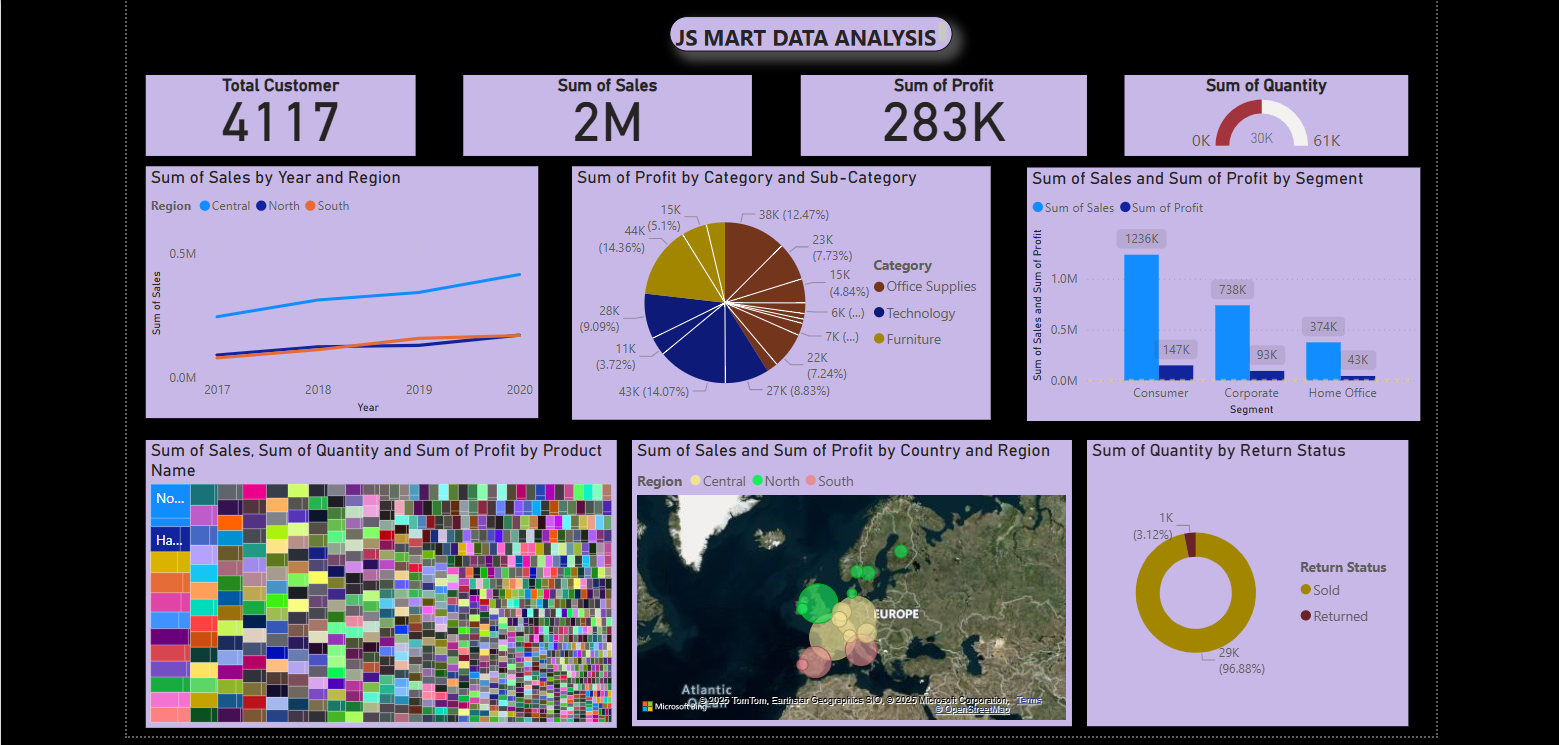

Layout of this report page (visuals, bound fields, positions):
{"tool":"powerbi","page":{"name":"Page 1","canvas":[1280,720],"ordinal":0},"visuals":[{"type":"lineChart","fields":{"Category":["List of Orders.Order Date.Variation.Date Hierarchy.Year","List of Orders.Order Date.Variation.Date Hierarchy.Quarter","List of Orders.Order Date.Variation.Date Hierarchy.Month","List of Orders.Order Date.Variation.Date Hierarchy.Day"],"Y":["Sum(Order Breakdown.Sales)"],"Series":["List of Orders.Region"]},"box":[18.8,163,383.8,246.7],"z":0},{"type":"treemap","fields":{"Group":["Order Breakdown.Product Name"],"Values":["Sum(Order Breakdown.Sales)","Sum(Order Breakdown.Quantity)","Sum(Order Breakdown.Profit)"]},"box":[18.3,430.4,461,281.3],"z":1},{"type":"pieChart","fields":{"Category":["Order Breakdown.Category"],"Series":["Order Breakdown.Sub-Category"],"Y":["Sum(Order Breakdown.Profit)"]},"box":[435.3,162.6,409.6,248.2],"z":2},{"type":"map","fields":{"Series":["List of Orders.Region"],"Category":["List of Orders.Country"],"Size":["Sum(Order Breakdown.Sales)"]},"box":[494,430.4,430.4,280],"z":3},{"type":"clusteredColumnChart","fields":{"Category":["List of Orders.Segment"],"Y":["Sum(Order Breakdown.Sales)","Sum(Order Breakdown.Profit)"]},"box":[880.4,163.9,385.2,248.2],"z":4},{"type":"donutChart","fields":{"Category":["Order Breakdown.Return Status","Order Breakdown.Product Name"],"Y":["Sum(Order Breakdown.Quantity)"]},"box":[939.1,430.4,314.3,280],"z":5},{"type":"textbox","box":[530.9,15.9,277,34.6],"z":6},{"type":"card","title":"Total Customer","fields":{"Values":["CountNonNull(List of Orders.Customer Name)"]},"box":[18.8,73.6,264,79.4],"z":8},{"type":"card","title":"Sum of Sales","fields":{"Values":["Sum(Order Breakdown.Sales)"]},"box":[328.9,73.4,282.5,79.5],"z":9},{"type":"card","title":"Sum of Profit","fields":{"Values":["Sum(Order Breakdown.Profit)"]},"box":[659.1,73.4,280,79.5],"z":10},{"type":"gauge","title":"Sum of Quantity","fields":{"Y":["Sum(Order Breakdown.Quantity)"]},"box":[975.8,73.4,277.6,79.5],"z":11}]}

Visuals, with their boxes in screenshot pixels (x1, y1, x2, y2):
lineChart - List of Orders.Order Date.Variation.Date Hierarchy.Year x List of Orders.Order Date.Variation.Date Hierarchy.Quarter: {"left": 141, "top": 163, "right": 534, "bottom": 415}
treemap - Order Breakdown.Product Name x Sum(Order Breakdown.Sales): {"left": 141, "top": 436, "right": 612, "bottom": 724}
pieChart - Order Breakdown.Category x Order Breakdown.Sub-Category: {"left": 567, "top": 162, "right": 986, "bottom": 416}
map - List of Orders.Region x List of Orders.Country: {"left": 627, "top": 436, "right": 1068, "bottom": 723}
clusteredColumnChart - List of Orders.Segment x Sum(Order Breakdown.Sales): {"left": 1023, "top": 164, "right": 1417, "bottom": 418}
donutChart - Order Breakdown.Return Status x Order Breakdown.Product Name: {"left": 1083, "top": 436, "right": 1404, "bottom": 723}
textbox: {"left": 665, "top": 12, "right": 948, "bottom": 48}
"Total Customer" card: {"left": 141, "top": 71, "right": 411, "bottom": 152}
"Sum of Sales" card: {"left": 458, "top": 71, "right": 747, "bottom": 152}
"Sum of Profit" card: {"left": 796, "top": 71, "right": 1083, "bottom": 152}
"Sum of Quantity" gauge: {"left": 1120, "top": 71, "right": 1404, "bottom": 152}
